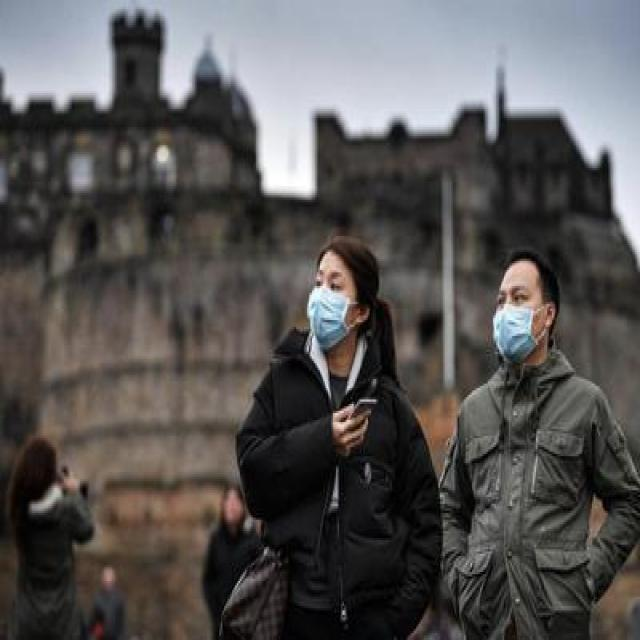with_mask: (491, 278, 544, 364), (305, 264, 355, 348)
without_mask: (222, 482, 244, 523)
